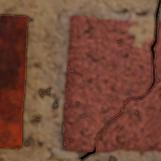brick: (0, 15, 28, 148)
broken_brick: (63, 16, 153, 151), (97, 21, 160, 152)
crack: (79, 0, 160, 160)
